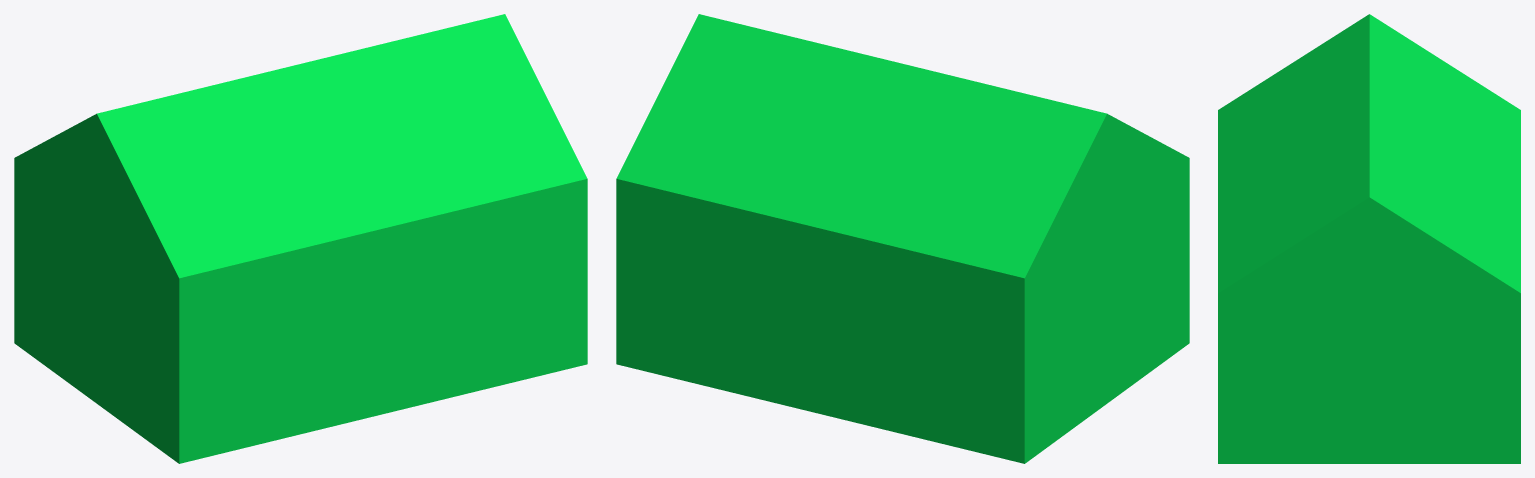
The model's file is treasure.glb.
3 renders of one model, left to right at view 1: azimuth 30°, elevation 25°; view 2: azimuth 150°, elevation 25°; view 3: azimuth 270°, elevation 25°, orthographic. The views are drawn at different scales.
Parts seen in each view (by area): view 1: chest; view 2: chest; view 3: chest.
Part boxes in pixels (<box>): chest: <box>14,14,587,463</box>; chest: <box>616,14,1189,463</box>; chest: <box>1218,14,1520,463</box>.
Size of the model in its own units: 2.86 by 1.94 by 2.
